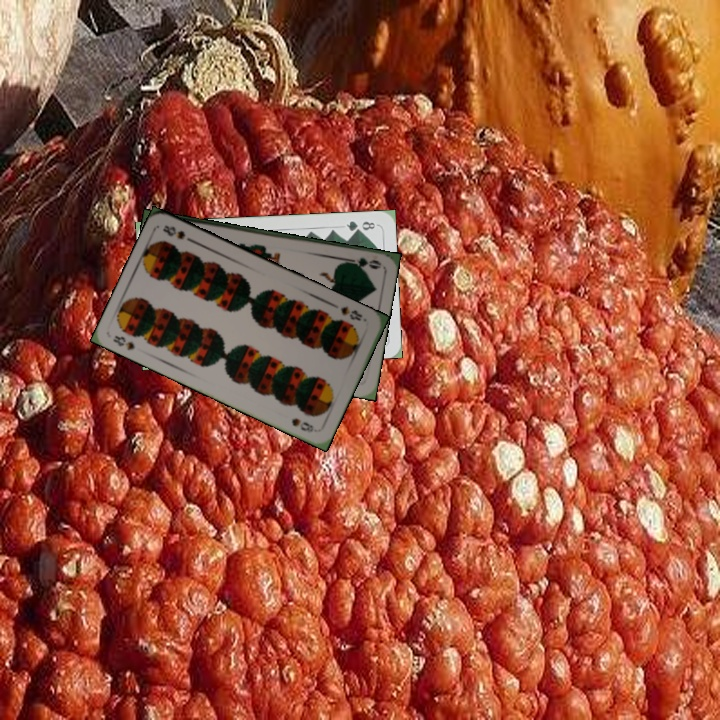G8: (342, 217, 378, 234)
GO: (341, 254, 382, 272)
S8: (109, 331, 137, 353), (336, 302, 365, 323)
